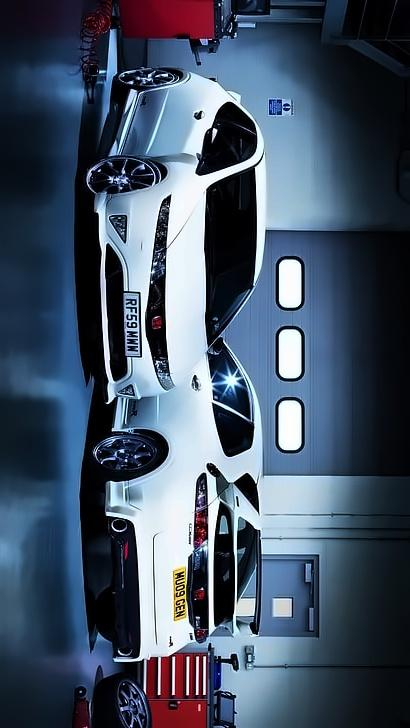Car boot: (151, 482, 234, 650)
Car hood: (164, 190, 210, 381)
Driver-s door - -F-R-: (119, 104, 262, 172)
Fender - -F-R-: (122, 152, 211, 249)
Fender - -R-L-: (123, 422, 203, 497)
Fender - -R-R-: (136, 65, 232, 103)
Front bumper: (92, 187, 156, 410)
Headlight - -L-: (147, 350, 182, 396)
Headlight - -R-: (146, 190, 174, 287)
Rear bumper: (98, 467, 192, 668)
Rear light - -L-: (186, 468, 215, 553)
Rear light - -R-: (183, 612, 215, 650)
Side bumper - -L-: (109, 393, 137, 440)
Side bumper - -R-: (101, 82, 143, 161)
Side mirror - -R-: (196, 123, 229, 169)
